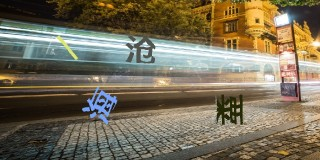一: (57, 36, 78, 60)
沧: (125, 34, 156, 64)
海: (82, 87, 118, 124)
粟: (216, 92, 243, 125)
